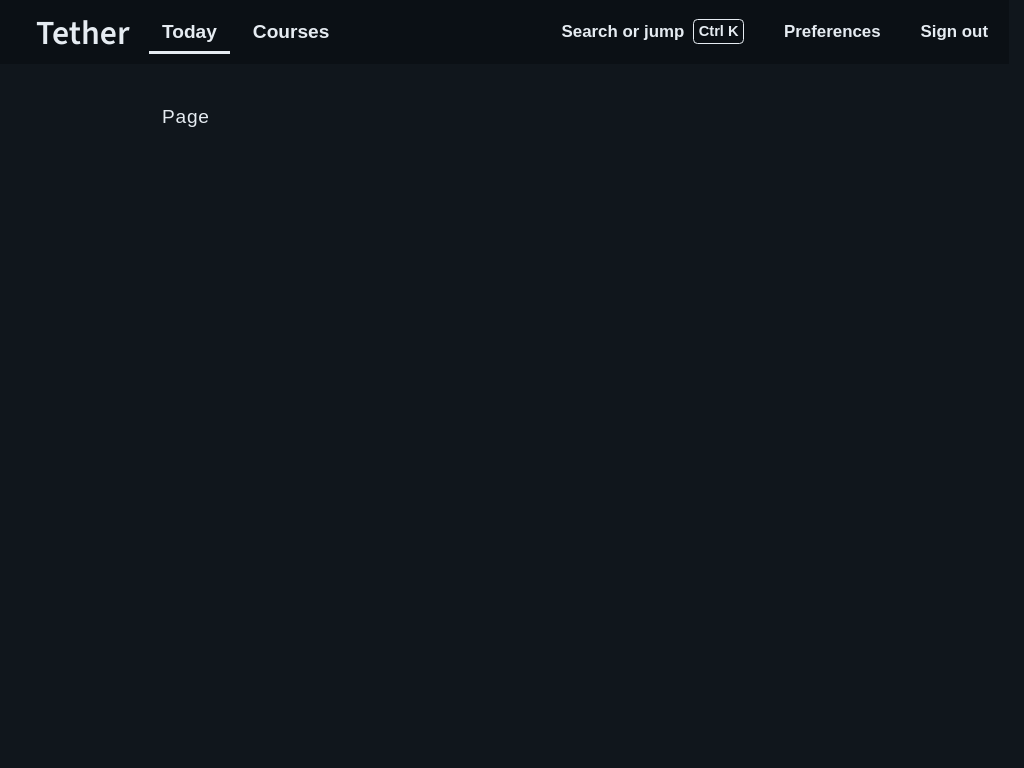
Test: Reset look, Preview card, rollback, lecture settings › Reset look to defaults restores every Look field and nothing else, and says so
This screenshot has width=1024, height=768.
Click the button "Preferences" at point(832, 32), box [768,10,896,54]
(page scrolled)
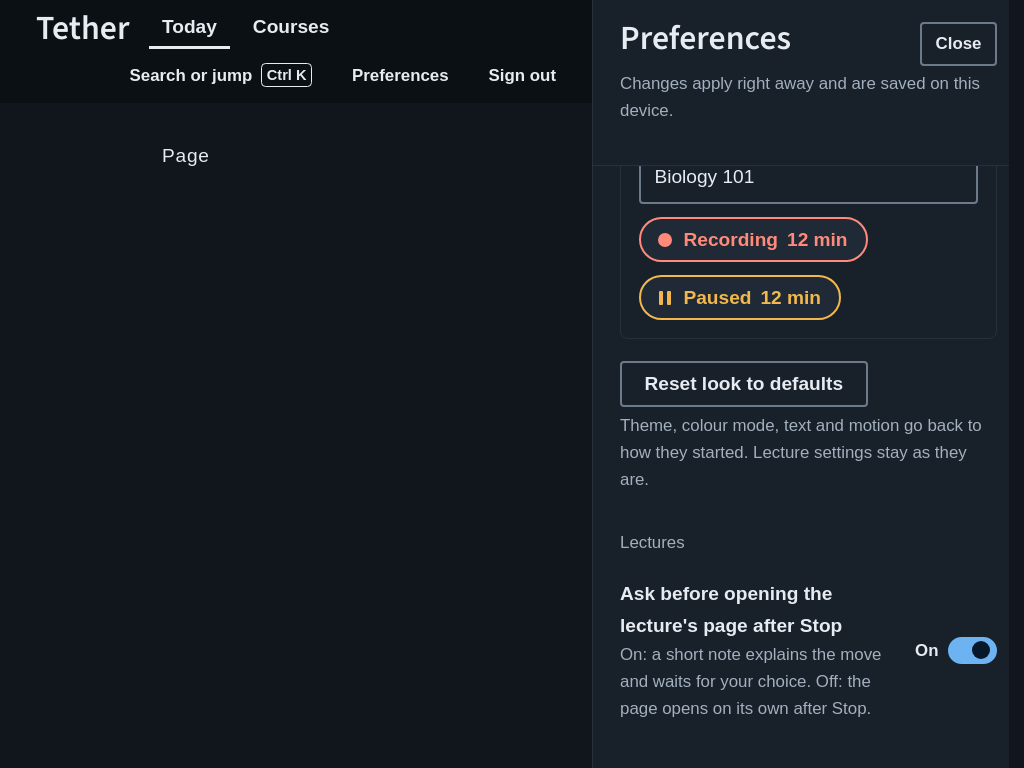
Click the button "Reset look to defaults" at point(744, 384), box [620,361,868,407]
(page scrolled)
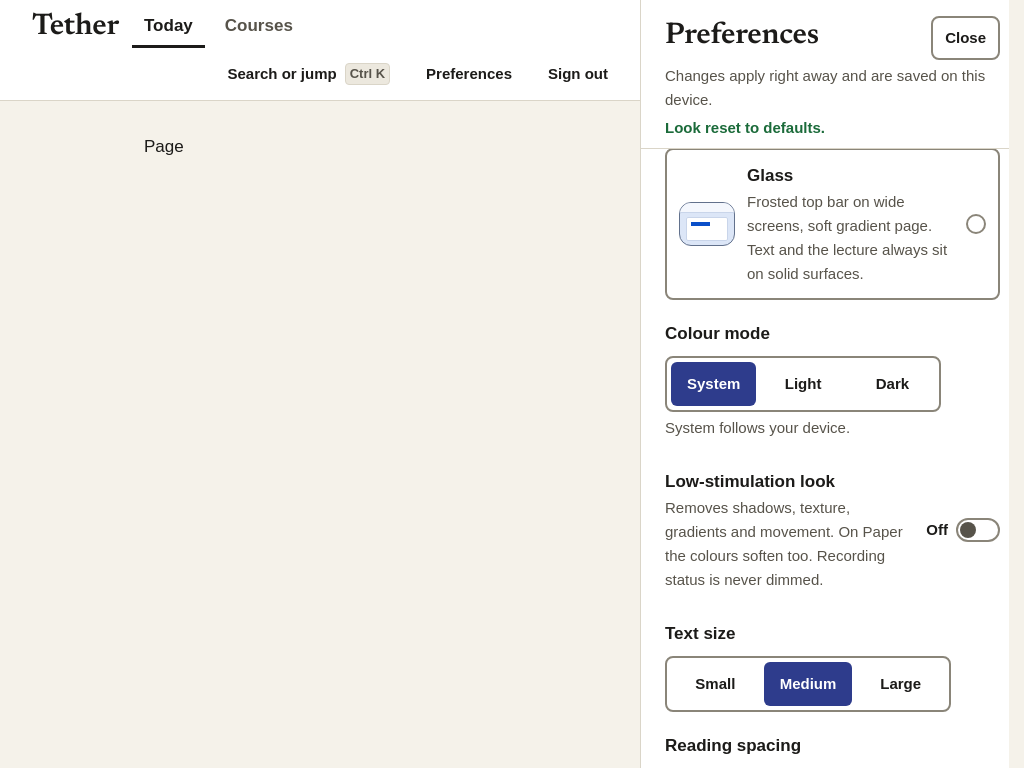
Check: the message reads "Look reset to defaults.", box [665,119,825,136]
